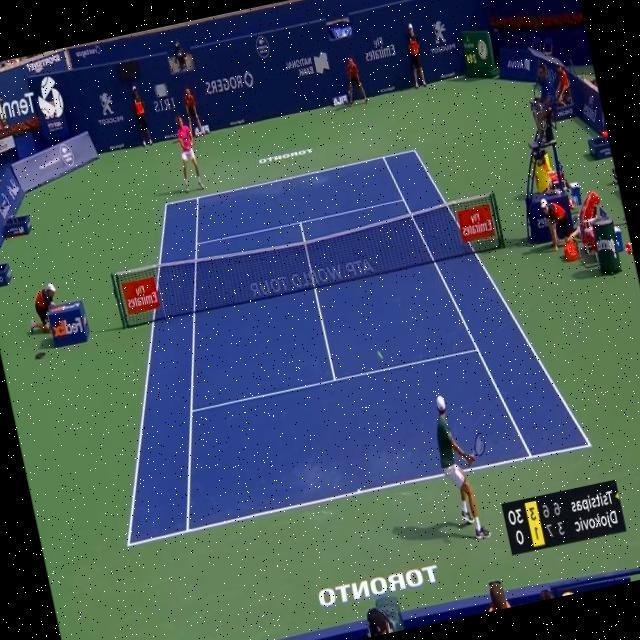court: (58, 127, 592, 547)
net: (110, 192, 506, 329)
player: (425, 388, 492, 546)
